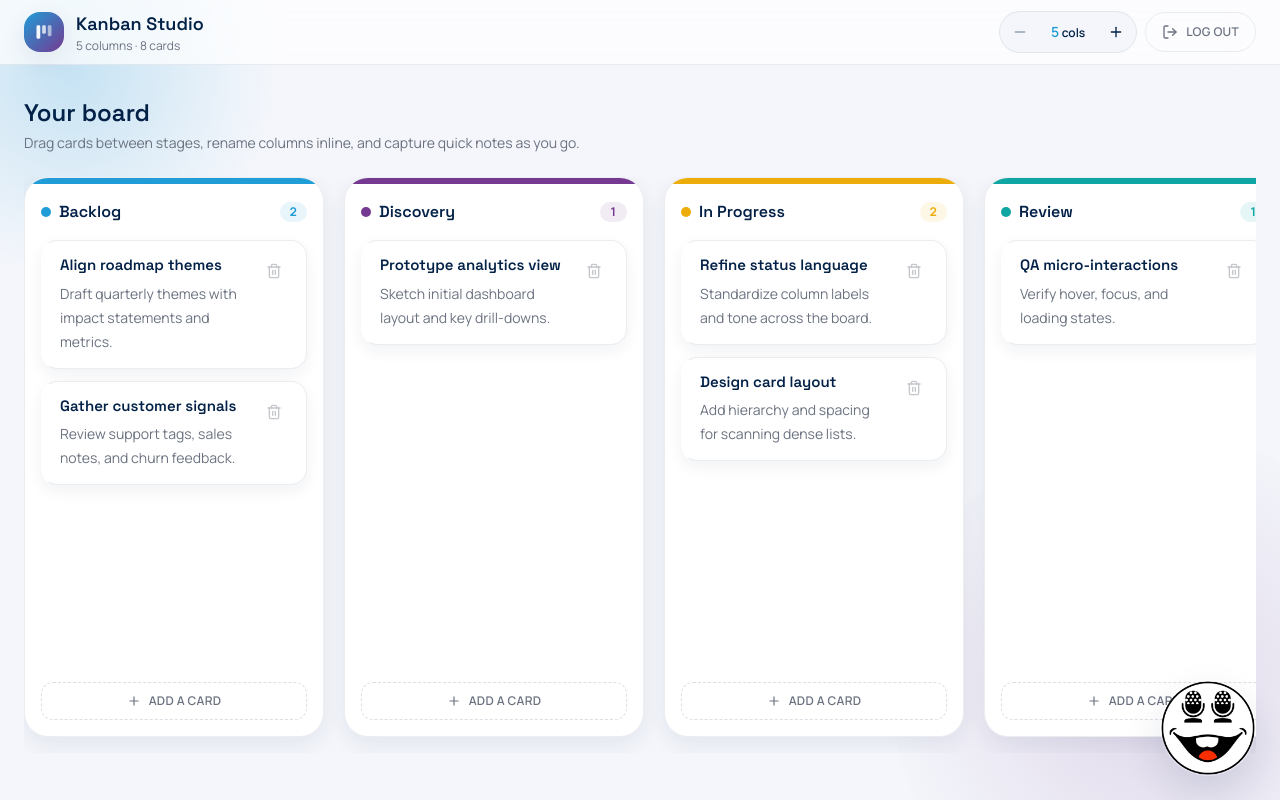
Test case: AuthGate › returns to the login screen after logging out
This screenshot has width=1280, height=800.
Expected: the heading "Kanban Studio" is shown, [76,10,204,38]
Click the button "Log out".
click(1201, 32)  # box [1145,12,1256,52]
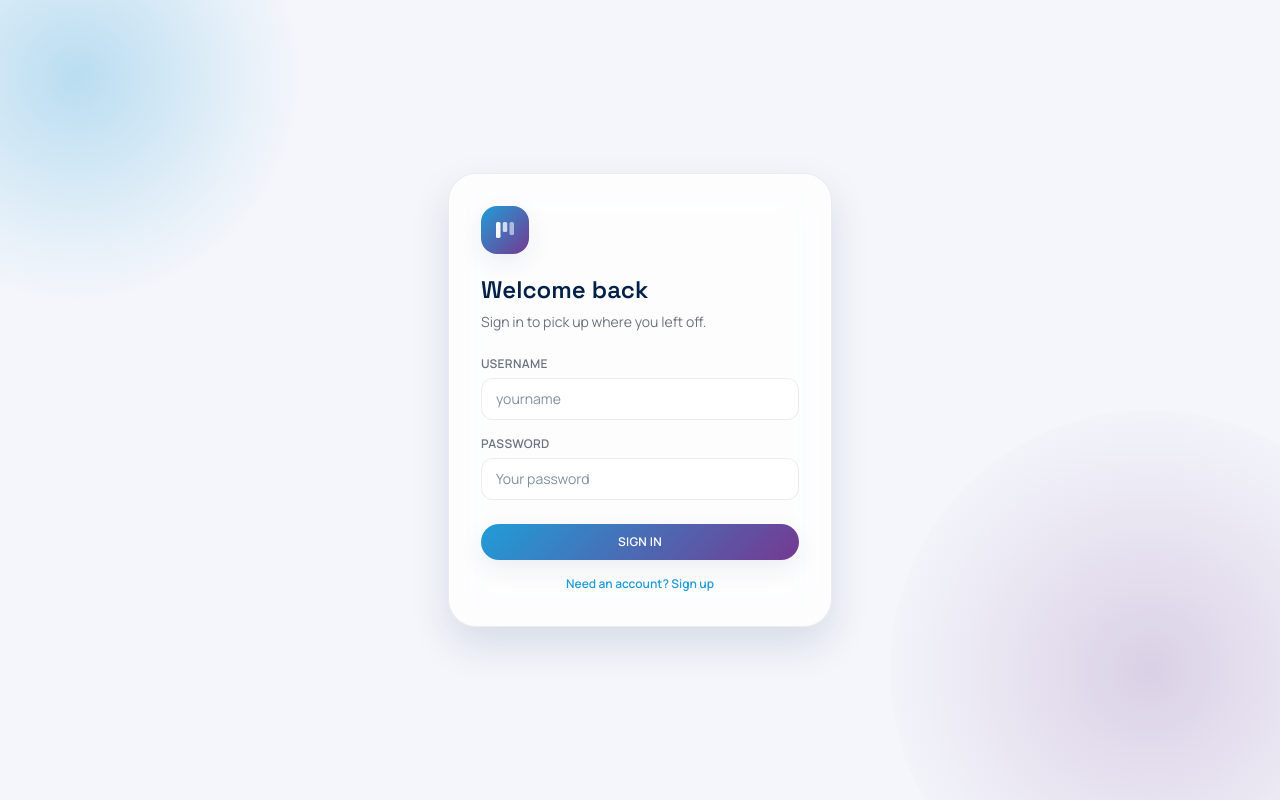
Expected: the heading "Welcome back" is shown, [481,274,648,305]
